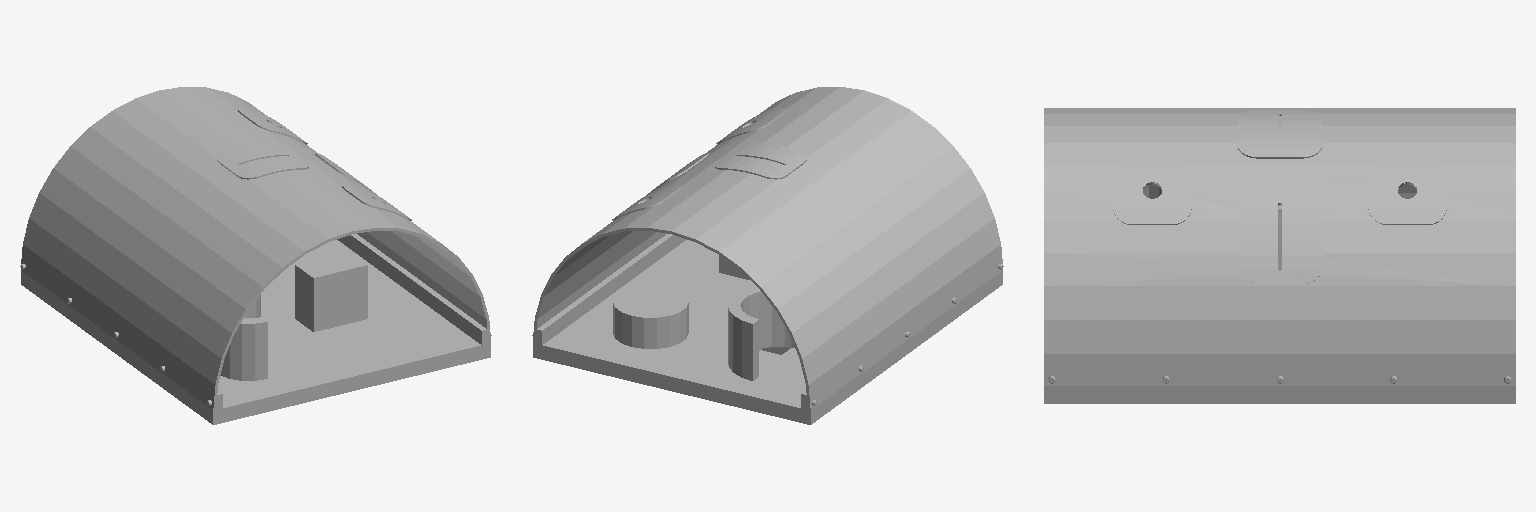
The robot description file, URDF, robot "round_trainer_edited":
<?xml version="1.0" encoding="utf-8"?>
<!-- This URDF was automatically created by SolidWorks to URDF Exporter! Originally created by [author] ([email redacted]) 
     Commit Version: 1.6.0-4-g7f85cfe  Build Version: 1.6.7995.38578
     For more information, please see http://wiki.ros.org/sw_urdf_exporter -->
<robot
  name="round_trainer_edited">
  <link
    name="base_link">
    <inertial>
      <origin
        xyz="-0.00116958816636348 0.00194191798200065 0.0163617422794715"
        rpy="0 0 0" />
      <mass
        value="1.67854287309931" />
      <inertia
        ixx="0.0127919503513295"
        ixy="-0.000351502262622538"
        ixz="0.000129139947884529"
        iyy="0.0101141052014532"
        iyz="-2.2641300307581E-05"
        izz="0.0214244565663922" />
    </inertial>
    <visual>
      <origin
        xyz="0 0 0"
        rpy="0 0 0" />
      <geometry>
        <mesh
          filename="package://round_trainer_edited/meshes/base_link.STL" />
      </geometry>
      <material
        name="">
        <color
          rgba="0.752941176470588 0.752941176470588 0.752941176470588 1" />
      </material>
    </visual>
    <collision>
      <origin
        xyz="0 0 0"
        rpy="0 0 0" />
      <geometry>
        <mesh
          filename="package://round_trainer_edited/meshes/base_link.STL" />
      </geometry>
    </collision>
  </link>
</robot>

--- Render facts (derived) ---
Views: 3 orthographic renders of the robot side by side, from view 1: azimuth 30°, elevation 25°; view 2: azimuth 150°, elevation 25°; view 3: azimuth 270°, elevation 25°.
Model round_trainer_edited with 1 links and 0 joints (none), rooted at base_link, posed all joints at 0.
Links seen in each view (by area): view 1: base_link; view 2: base_link; view 3: base_link.
Link boxes in pixels (<box>): base_link: <box>20,87,491,424</box>; base_link: <box>532,87,1003,424</box>; base_link: <box>1044,108,1515,403</box>.
Size in the robot's own frame: 0.2581 by 0.3048 by 0.1409 metres.
1 mesh visuals loaded from 1 distinct referenced files (1 binary STL).